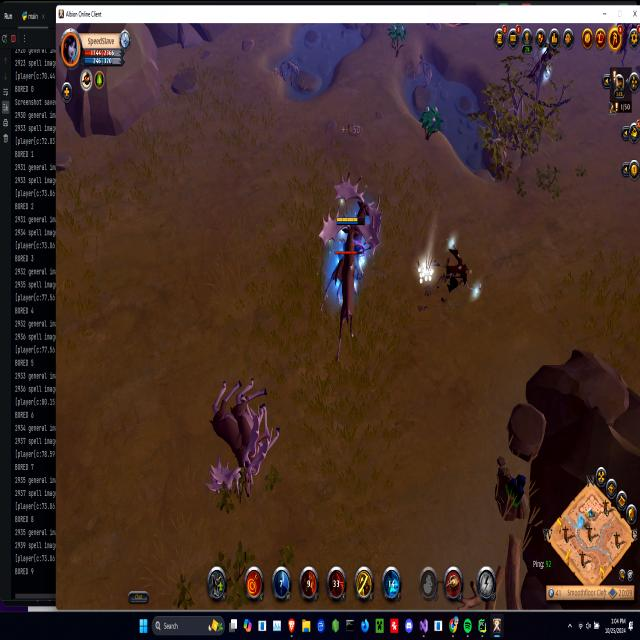hide: (419, 101, 444, 141), (388, 21, 408, 54)
mob: (202, 367, 287, 496)
ore: (315, 173, 384, 359), (528, 48, 554, 98)
red: (334, 213, 363, 274)
stone: (419, 256, 436, 286)
